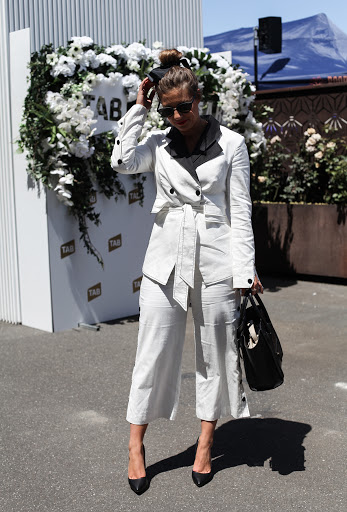Person: (110, 48, 264, 495)
